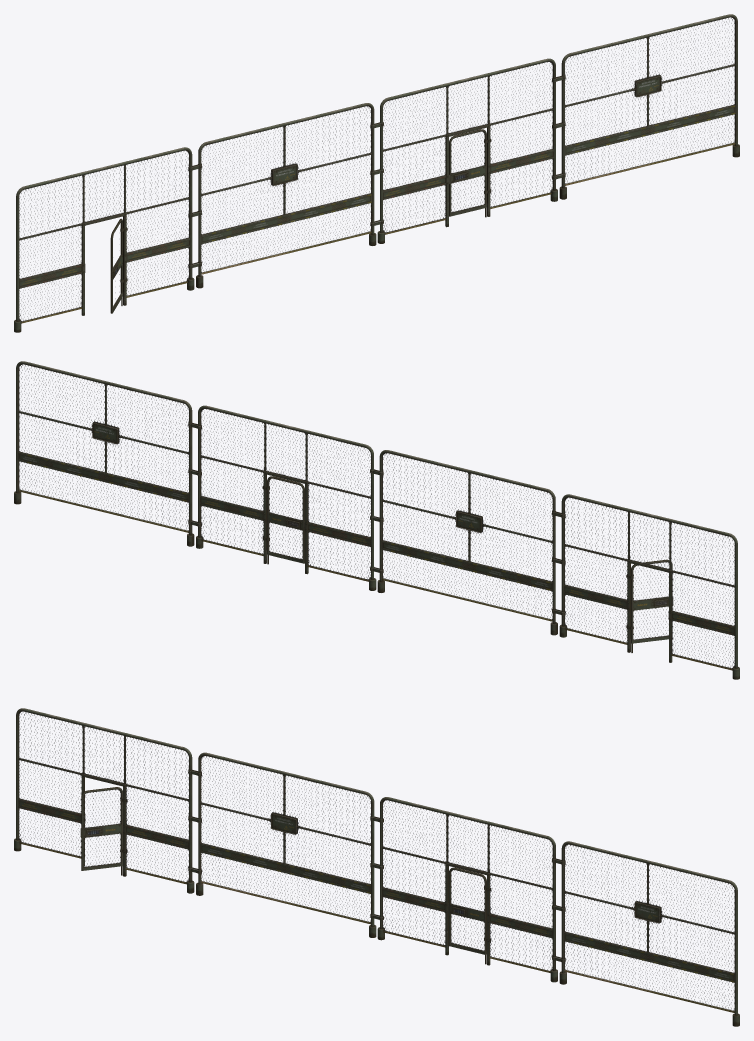
File: fence___door___metal_protection-2part_40mb.glb
3 renders of one model, top to bottom at view 1: azimuth 30°, elevation 25°; view 2: azimuth 150°, elevation 25°; view 3: azimuth 330°, elevation 25°, orthographic.
Visible parts, largest first — view 1: door, door_1, 01_03_03_0, 1_3_03_0, 1_3_01_0, 01_03_01_0; view 2: door_1, door, 01_03_03_0, 1_3_03_0, 1_3_01_0, 01_03_01_0; view 3: door_1, door, 01_03_03_0, 1_3_03_0, 1_3_01_0, 01_03_01_0.
Part boxes in pixels (<box>): door: <box>377,58,557,243</box>; door_1: <box>14,147,194,332</box>; 01_03_03_0: <box>196,103,376,288</box>; 1_3_03_0: <box>559,14,739,199</box>; 1_3_01_0: <box>565,17,734,183</box>; 01_03_01_0: <box>201,106,371,272</box>; door_1: <box>559,494,739,679</box>; door: <box>196,405,376,590</box>; 01_03_03_0: <box>377,450,557,635</box>; 1_3_03_0: <box>14,361,194,546</box>; 1_3_01_0: <box>19,364,188,530</box>; 01_03_01_0: <box>382,453,552,619</box>; door_1: <box>14,708,194,893</box>; door: <box>377,797,557,982</box>; 01_03_03_0: <box>196,752,376,937</box>; 1_3_03_0: <box>559,841,739,1026</box>; 1_3_01_0: <box>564,844,734,1011</box>; 01_03_01_0: <box>201,755,370,922</box>.
Size of the model in its own units: 20.96 by 3.95 by 0.8714.
Materials: 3 (3 with a texture image).
